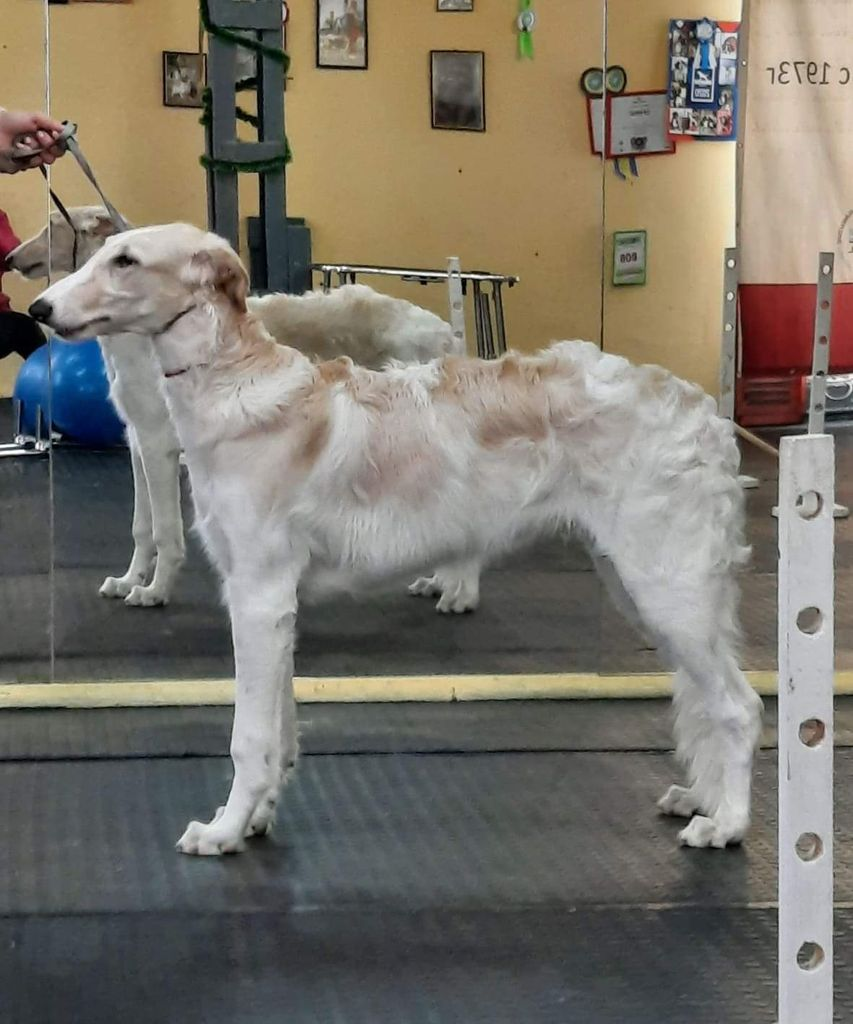borzoi: (17, 218, 764, 863)
